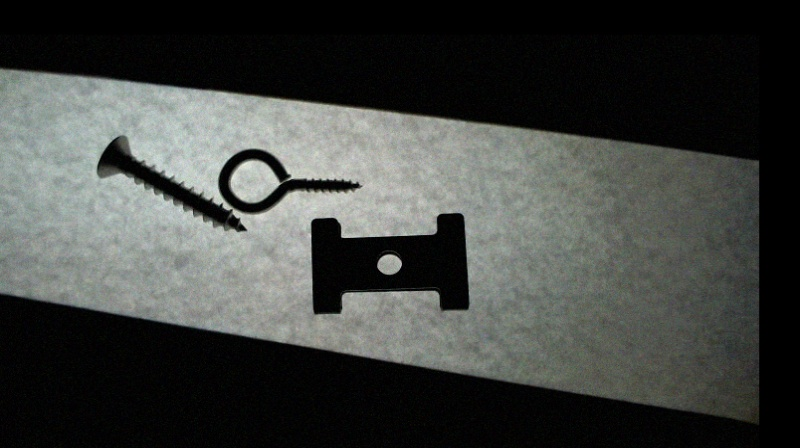O001: (214, 144, 365, 216)
O002: (306, 209, 473, 316)
S001: (92, 131, 252, 234)
